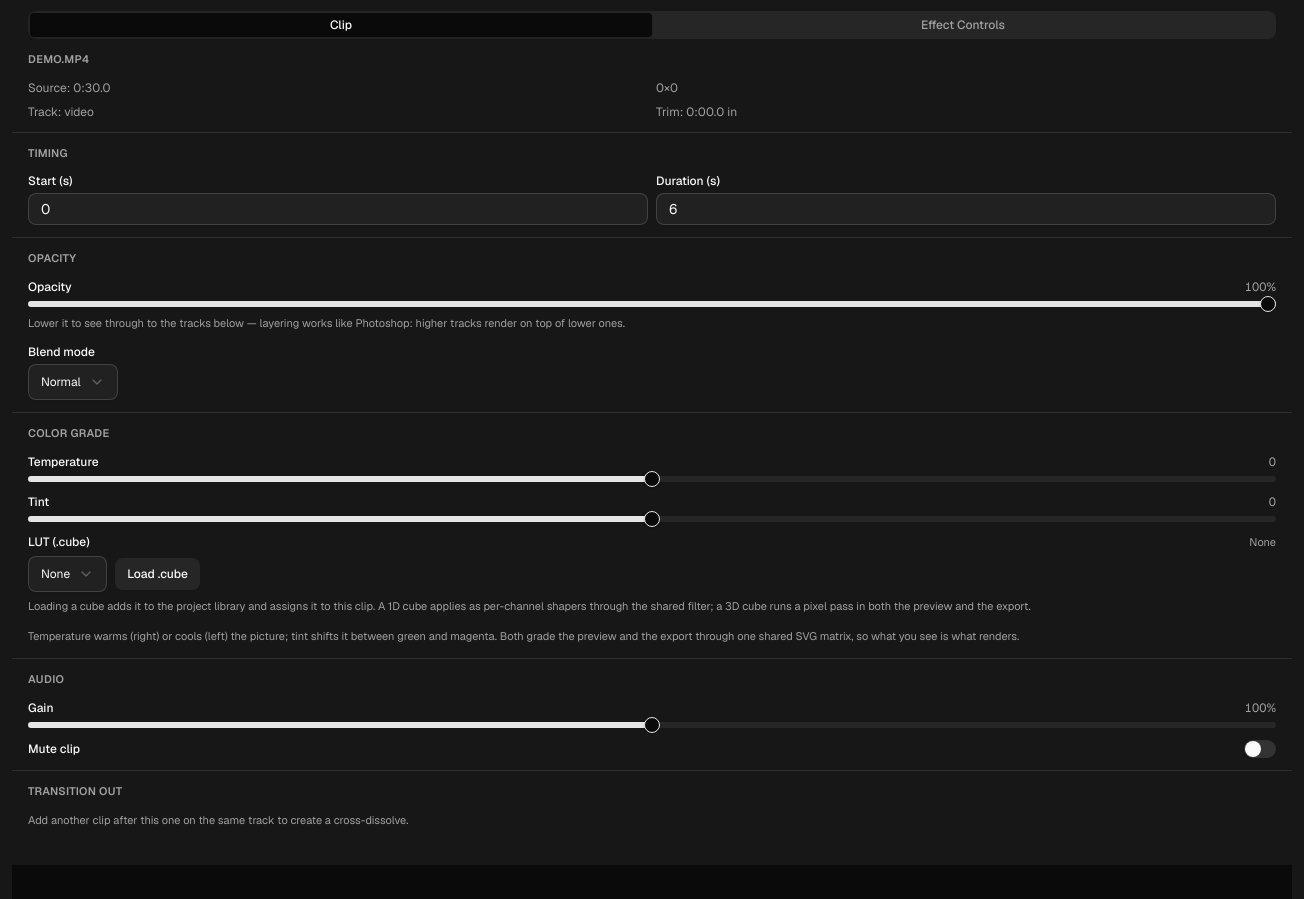
Test: InspectorPanel tabs › disables the static speed slider once a time remapping curve exists
What coordinates should you click on to do the following:
click the tab with test id "inspector-tab-effects"
I would click on:
 (963, 25)
Its box is top-left (652, 13), bottom-right (1274, 37).
(page scrolled)
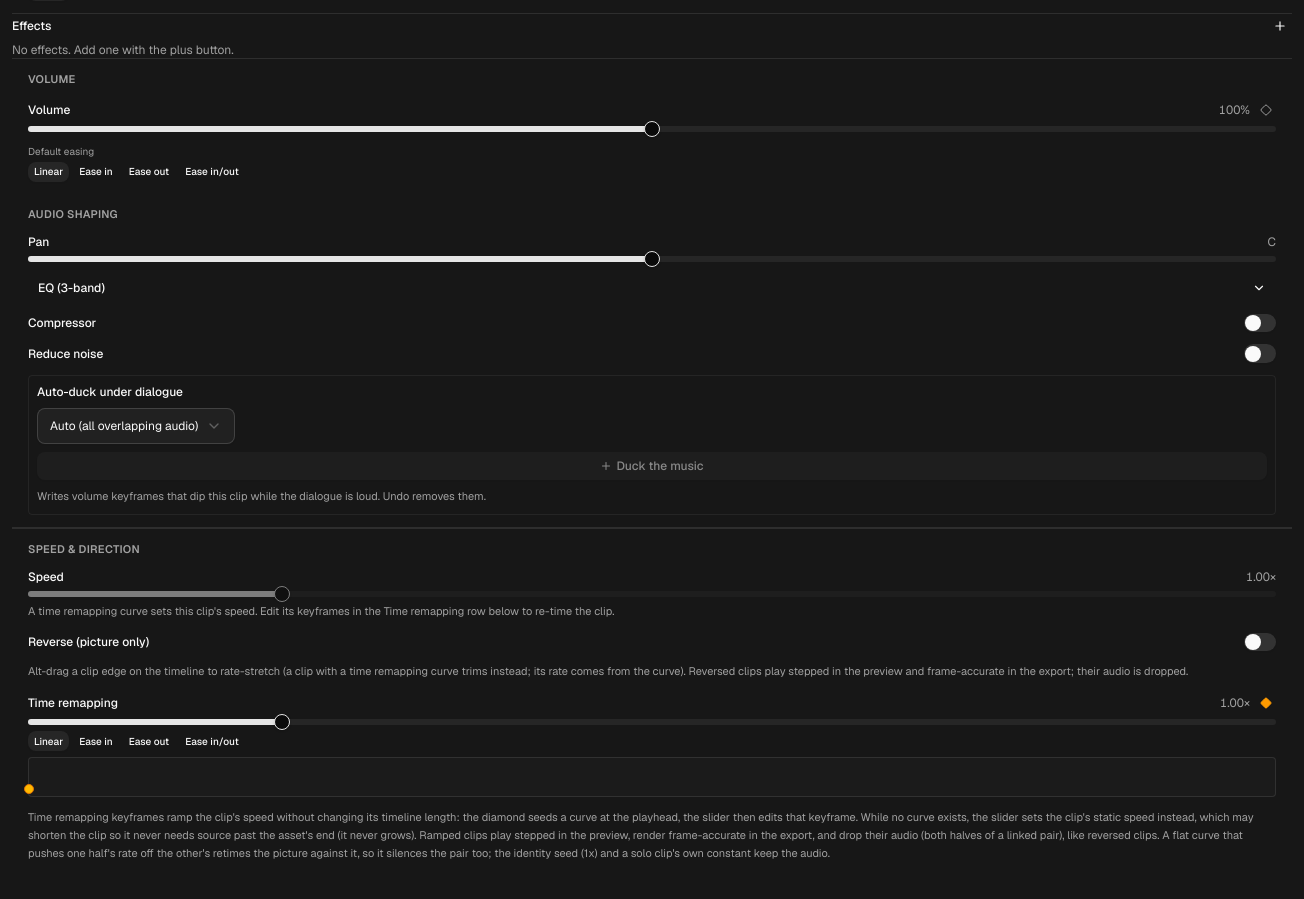
Check: the element with test id "speed-section" shows "time remapping curve", box top-left (28, 604), bottom-right (614, 618)
